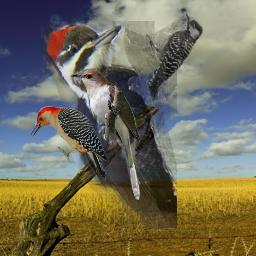Cuckoo: (69, 68, 141, 201)
Woodpecker: (41, 21, 177, 228), (30, 106, 110, 182), (146, 9, 203, 101)
